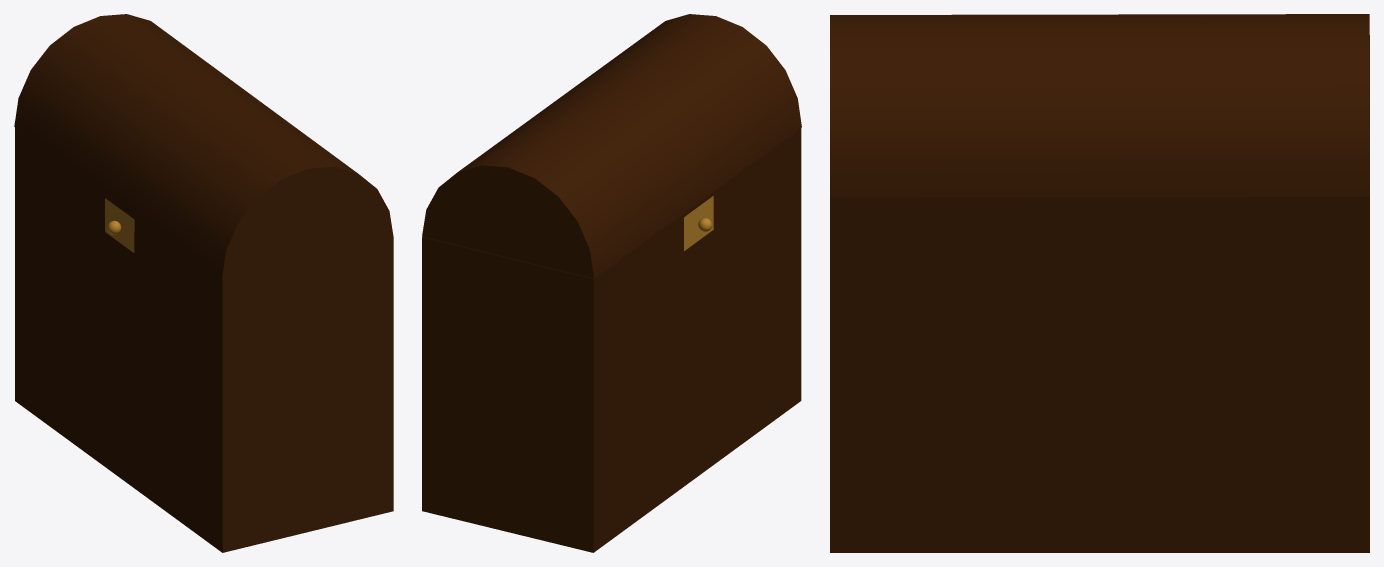
Rendered from Toychest.fbx.
3 views of the same model, side by side, from view 1: azimuth 30°, elevation 25°; view 2: azimuth 150°, elevation 25°; view 3: azimuth 270°, elevation 25° (orthographic). The views are drawn at different scales.
Parts seen in each view (by area): view 1: Chest, Chest_top, Chest_hinge; view 2: Chest, Chest_top, Chest_hinge; view 3: Chest, Chest_top.
Part boxes in pixels (x1,y1,x2,y2): Chest: (15,128,393,552); Chest_top: (14,14,393,279); Chest_hinge: (105,198,134,252); Chest: (422,128,801,552); Chest_top: (422,14,801,278); Chest_hinge: (684,196,713,250); Chest: (830,135,1369,552); Chest_top: (830,14,1369,197).
Bounding box in the file's own units: 2.64 × 5.01 × 5.18.
